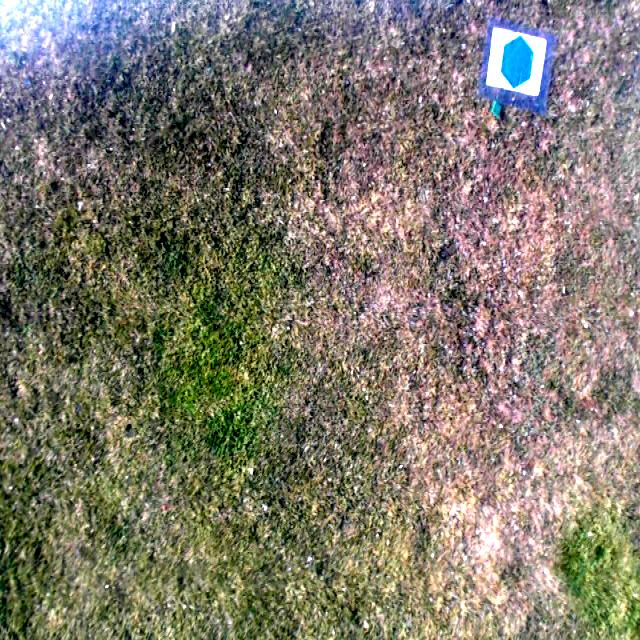blue_hexagon: (500, 34, 534, 89)
